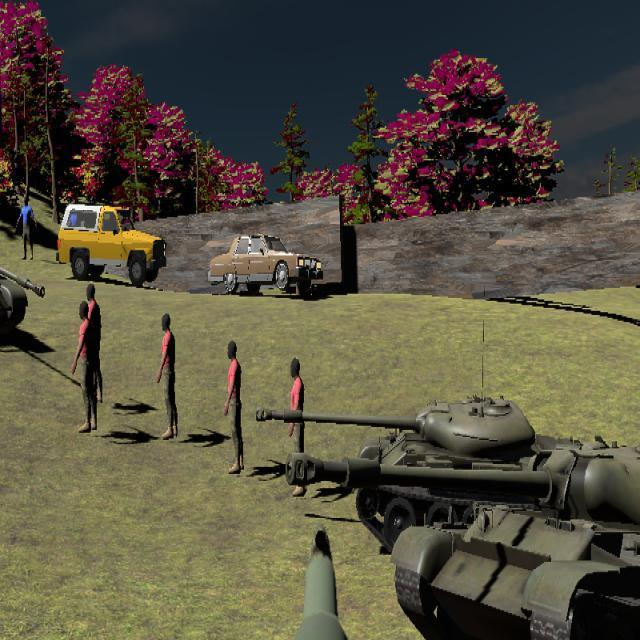Human: (71, 298, 98, 433), (224, 339, 243, 476), (157, 312, 177, 440), (157, 313, 177, 440), (288, 357, 305, 495), (15, 194, 38, 261)
Tank: (256, 394, 619, 554), (385, 438, 640, 640), (0, 228, 46, 341)
car: (57, 203, 168, 287), (208, 234, 324, 294)
